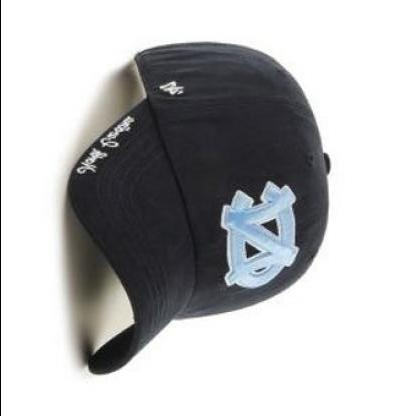cap: (60, 39, 340, 382)
